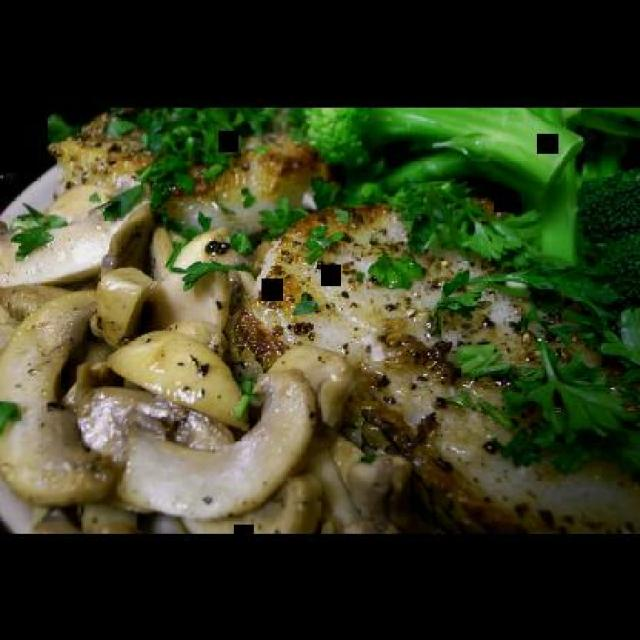unauthorized: (0, 107, 638, 535)
